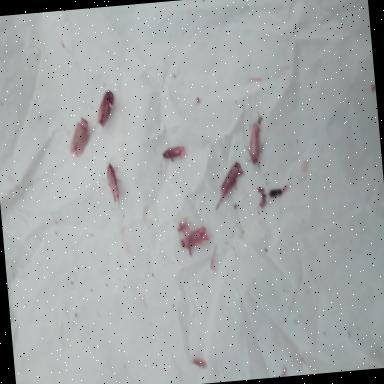pbw: (212, 162, 246, 211), (242, 125, 263, 173), (180, 226, 210, 258), (68, 118, 91, 158), (96, 92, 116, 128), (106, 163, 120, 207), (162, 147, 186, 162)
